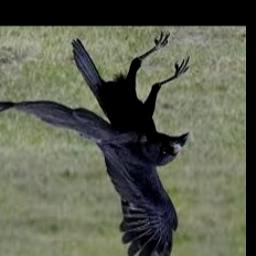Crow: (0, 33, 190, 256)
